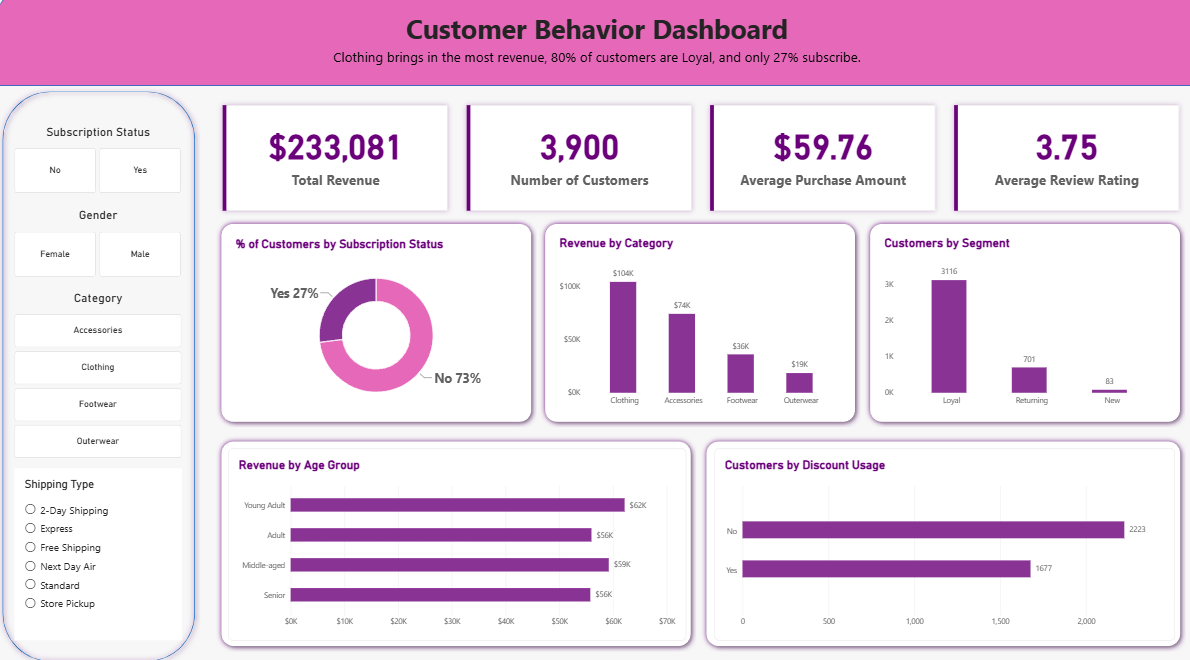

Layout of this report page (visuals, bound fields, positions):
{"tool":"powerbi","page":{"name":"Page 1","canvas":[1920,1080],"ordinal":0},"visuals":[{"type":"cardVisual","fields":{"Data":["Sum(public customer.purchase_amount)","public customer.Number of Customers","public customer.Average Purchase Amount","public customer.Average Review Ratings"]},"box":[349.3,170.1,1552.7,191.8],"z":0},{"type":"shape","box":[0,0,1920.1,150.2],"z":1000},{"type":"textbox","box":[0,27.1,1920.1,123.1],"z":2000},{"type":"shape","box":[349.3,361.9,513.9,334.8],"z":3000},{"type":"donutChart","title":"% of Customers by Subscription Status ","fields":{"Category":["public customer.subscription_status"],"Y":["CountNonNull(public customer.customer_id)"]},"box":[365.6,378.2,481.4,305.8],"z":4000},{"type":"shape","box":[1388,361.9,513.9,334.8],"z":5000},{"type":"shape","box":[868.6,361.9,513.9,334.8],"z":6000},{"type":"clusteredColumnChart","title":"Revenue by Category","fields":{"Category":["public customer.category"],"Y":["Sum(public customer.purchase_amount)"]},"box":[884.9,376.4,479.6,305.8],"z":7000},{"type":"clusteredColumnChart","title":"Customers by Segment","fields":{"Category":["public customer.customer_segment"],"Y":["CountNonNull(public customer.customer_id)"]},"box":[1404.3,376.4,479.6,305.8],"z":8000},{"type":"shape","box":[0,150.2,325.7,930.2],"z":9000},{"type":"advancedSlicerVisual","fields":{"Values":["public customer.subscription_status"]},"box":[29,211.7,267.8,110.4],"z":10000},{"type":"advancedSlicerVisual","fields":{"Values":["public customer.gender"]},"box":[29,345.6,267.8,110.4],"z":11000},{"type":"advancedSlicerVisual","fields":{"Values":["public customer.category"]},"box":[29,477.8,267.8,267.8],"z":12000},{"type":"listSlicer","fields":{"Values":["public customer.shipping_type"]},"box":[29,761.9,267.8,275.1],"z":13000},{"type":"shape","box":[349.3,709.4,769.1,345.6],"z":14000},{"type":"shape","box":[1125.6,709.4,776.3,345.6],"z":15000},{"type":"clusteredBarChart","title":"Revenue by Age Group","fields":{"Category":["public customer.age_group"],"Y":["Sum(public customer.purchase_amount)"]},"box":[369.2,729.3,732.9,307.6],"z":16000},{"type":"clusteredBarChart","title":"Customers by Discount Usage","fields":{"Category":["public customer.discount_applied"],"Y":["CountNonNull(public customer.customer_id)"]},"box":[1147.3,729.3,736.5,307.6],"z":17000},{"type":"textbox","box":[0,88,1920,62],"z":17001}]}

Visuals, with their boxes in screenshot pixels (x1, y1, x2, y2), scaled from the page's 1920x1080 canvas onto the 1190x660 screenshot:
cardVisual - Sum(public customer.purchase_amount) x public customer.Number of Customers: {"left": 216, "top": 104, "right": 1179, "bottom": 221}
shape: {"left": 0, "top": 0, "right": 1189, "bottom": 92}
textbox: {"left": 0, "top": 17, "right": 1189, "bottom": 92}
shape: {"left": 216, "top": 221, "right": 535, "bottom": 426}
"% of Customers by Subscription Status " donutChart: {"left": 227, "top": 231, "right": 525, "bottom": 418}
shape: {"left": 860, "top": 221, "right": 1179, "bottom": 426}
shape: {"left": 538, "top": 221, "right": 857, "bottom": 426}
"Revenue by Category" clusteredColumnChart: {"left": 548, "top": 230, "right": 846, "bottom": 417}
"Customers by Segment" clusteredColumnChart: {"left": 870, "top": 230, "right": 1168, "bottom": 417}
shape: {"left": 0, "top": 92, "right": 202, "bottom": 659}
advancedSlicerVisual - public customer.subscription_status: {"left": 18, "top": 129, "right": 184, "bottom": 197}
advancedSlicerVisual - public customer.gender: {"left": 18, "top": 211, "right": 184, "bottom": 279}
advancedSlicerVisual - public customer.category: {"left": 18, "top": 292, "right": 184, "bottom": 456}
listSlicer - public customer.shipping_type: {"left": 18, "top": 466, "right": 184, "bottom": 634}
shape: {"left": 216, "top": 434, "right": 693, "bottom": 645}
shape: {"left": 698, "top": 434, "right": 1179, "bottom": 645}
"Revenue by Age Group" clusteredBarChart: {"left": 229, "top": 446, "right": 683, "bottom": 634}
"Customers by Discount Usage" clusteredBarChart: {"left": 711, "top": 446, "right": 1168, "bottom": 634}
textbox: {"left": 0, "top": 54, "right": 1189, "bottom": 92}
